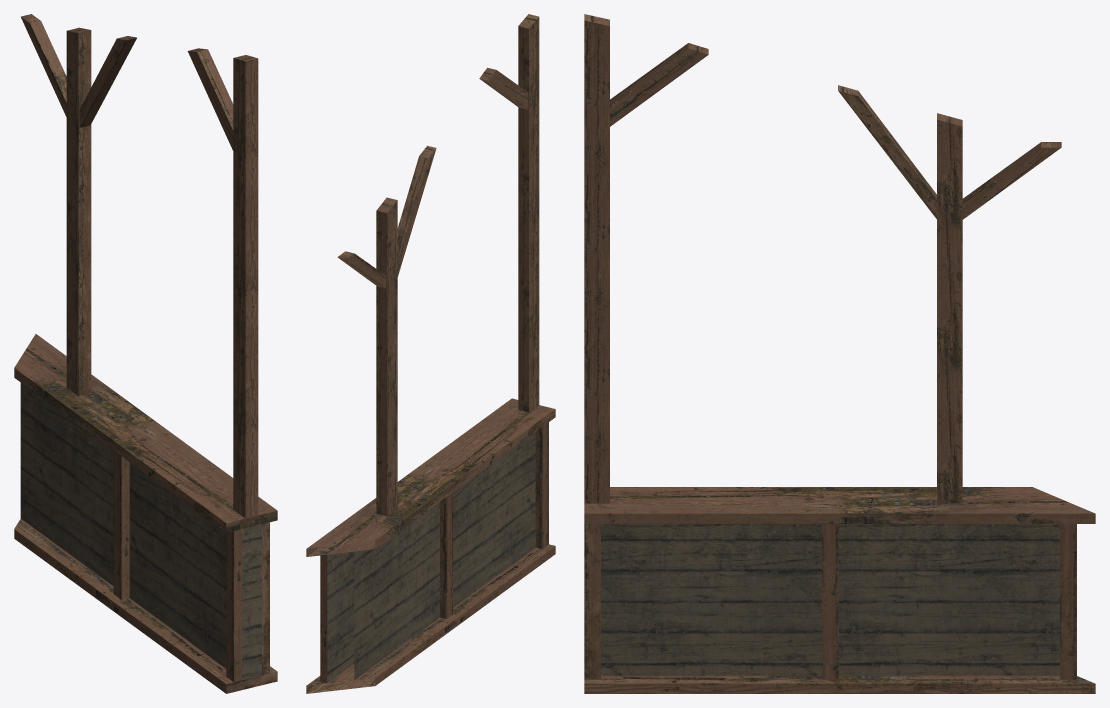
The model's file is Prop_Balcony_Short.fbx.
The picture shows the model from 3 angles, left to right: view 1: azimuth 30°, elevation 25°; view 2: azimuth 150°, elevation 25°; view 3: azimuth 270°, elevation 25°; orthographic projection. The views are drawn at different scales.
Visible parts, largest first — view 1: Prop_Balcony_Short; view 2: Prop_Balcony_Short; view 3: Prop_Balcony_Short.
Boxes of the visible parts, <box> form: Prop_Balcony_Short: <box>14,14,277,693</box>; Prop_Balcony_Short: <box>306,14,555,693</box>; Prop_Balcony_Short: <box>584,14,1095,693</box>.
Bounding box in the file's own units: 12.74 × 149 × 104.
